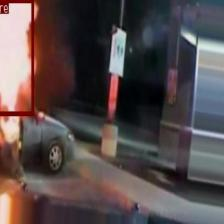fire: (0, 0, 33, 115)
